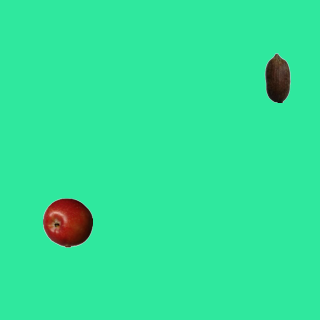Apple Braeburn: (42, 197, 92, 247)
Nut Pecan: (252, 52, 302, 102)
